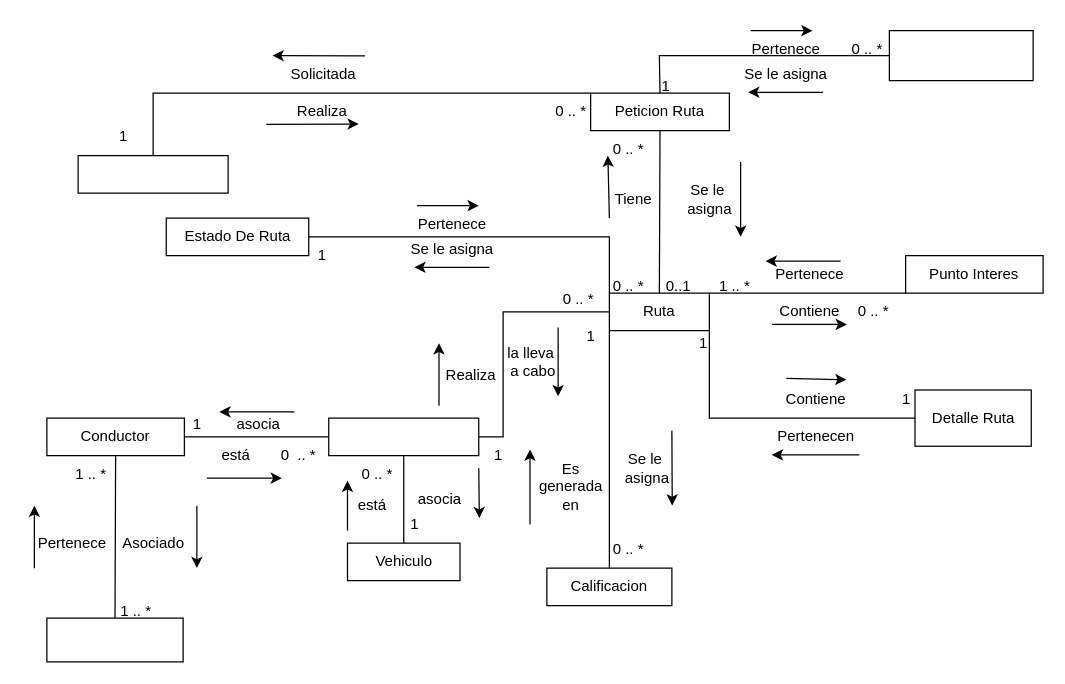
Some shapes in this 1065 by 684 pixel diagram are drawn without their labels. The box of each missing label's shape, as (x1, y1, x2, y2) in pixels:
Categoria Autorizada: (46, 617, 183, 662)
Cliente: (77, 154, 228, 193)
Conductor Por Vehículo: (328, 417, 479, 456)
Estado De Peticion Ruta: (888, 29, 1033, 81)
